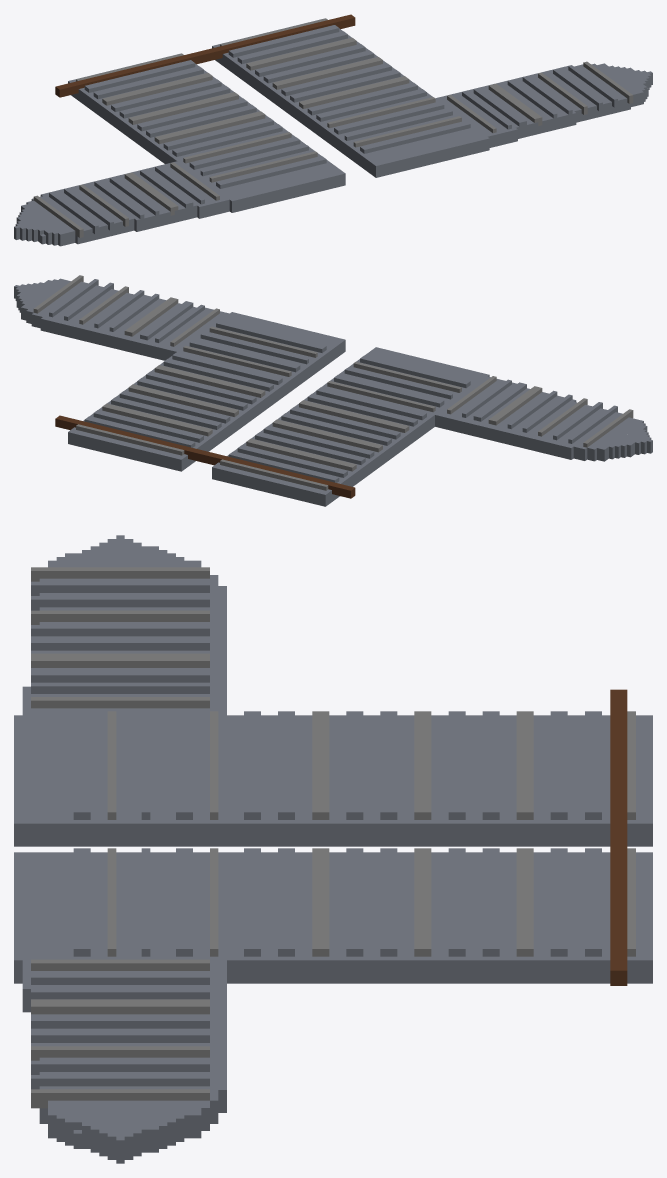
Rendered from hardened_mail_chausses.glb.
3 views of the same model, one above another, from view 1: azimuth 30°, elevation 25°; view 2: azimuth 150°, elevation 25°; view 3: azimuth 270°, elevation 25° (orthographic). The views are drawn at different scales.
Parts seen in each view (by area): view 1: hardened_mail_chausses:compound; view 2: hardened_mail_chausses:compound; view 3: hardened_mail_chausses:compound.
Boxes of the visible parts, x1,y1,x2,y2 form: hardened_mail_chausses:compound: [14, 14, 652, 246]; hardened_mail_chausses:compound: [14, 275, 652, 506]; hardened_mail_chausses:compound: [14, 535, 652, 1163].
Bounding box in the file's own units: 0.672 × 0.016 × 0.3.
